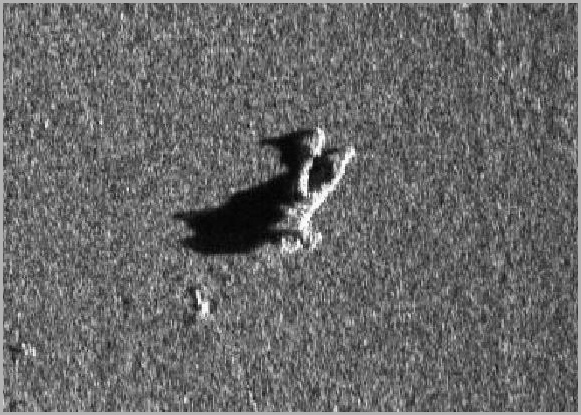man: (266, 125, 357, 259)
